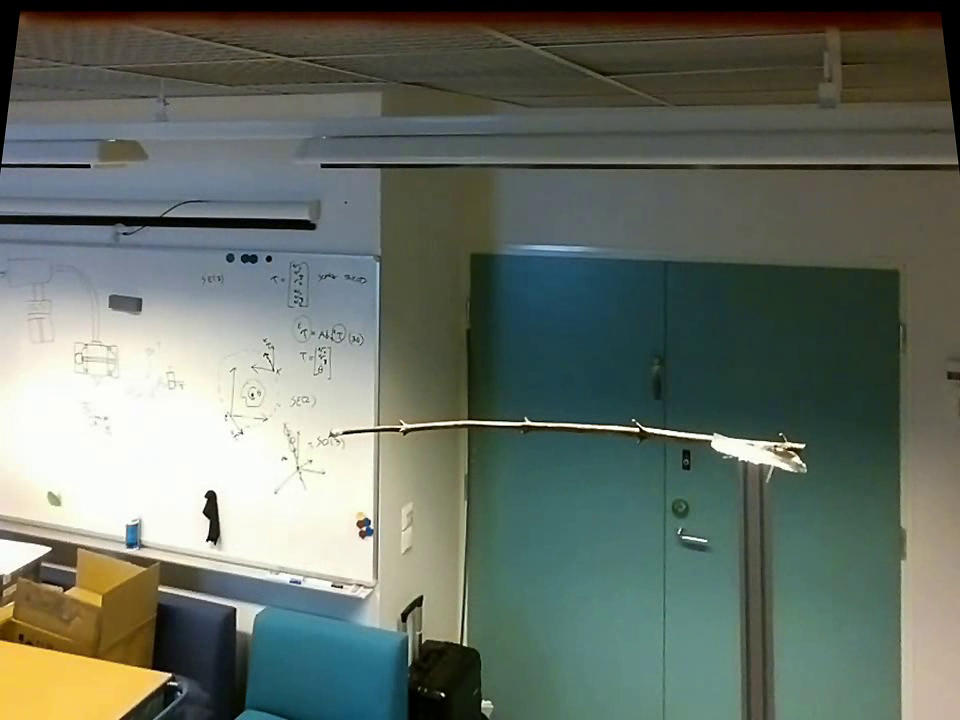aluminum_frame: (2, 508, 374, 603), (731, 457, 779, 718), (2, 235, 383, 261), (367, 253, 382, 593)
branch: (345, 406, 710, 450)
